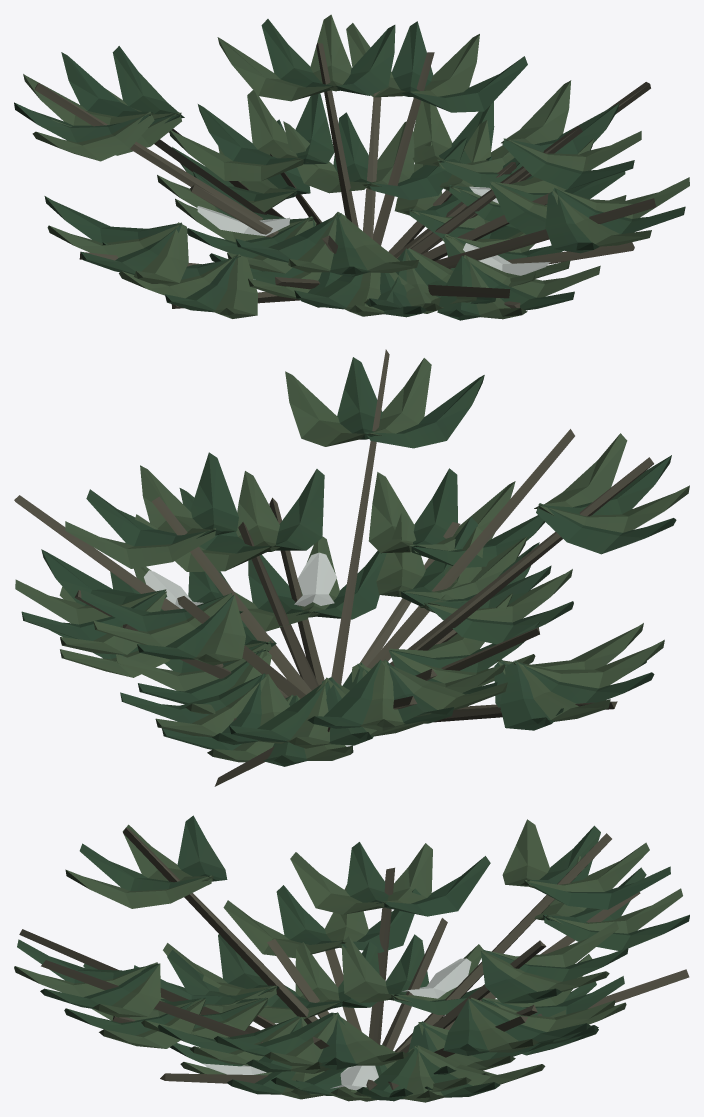
Rendered from juniper.glb.
3 renders of one model, top to bottom at view 1: azimuth 30°, elevation 25°; view 2: azimuth 150°, elevation 25°; view 3: azimuth 270°, elevation 25°, orthographic. The views are drawn at different scales.
Parts seen in each view (by area): view 1: juniper; view 2: juniper; view 3: juniper.
Part boxes in pixels (bbox=[...]): juniper: bbox=[14, 14, 689, 320]; juniper: bbox=[14, 349, 689, 786]; juniper: bbox=[14, 815, 689, 1102].
Size of the model in its own units: 1.78 by 0.5762 by 1.91.
